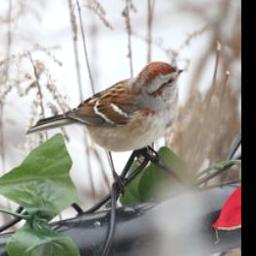Sparrow: (24, 60, 183, 195)
